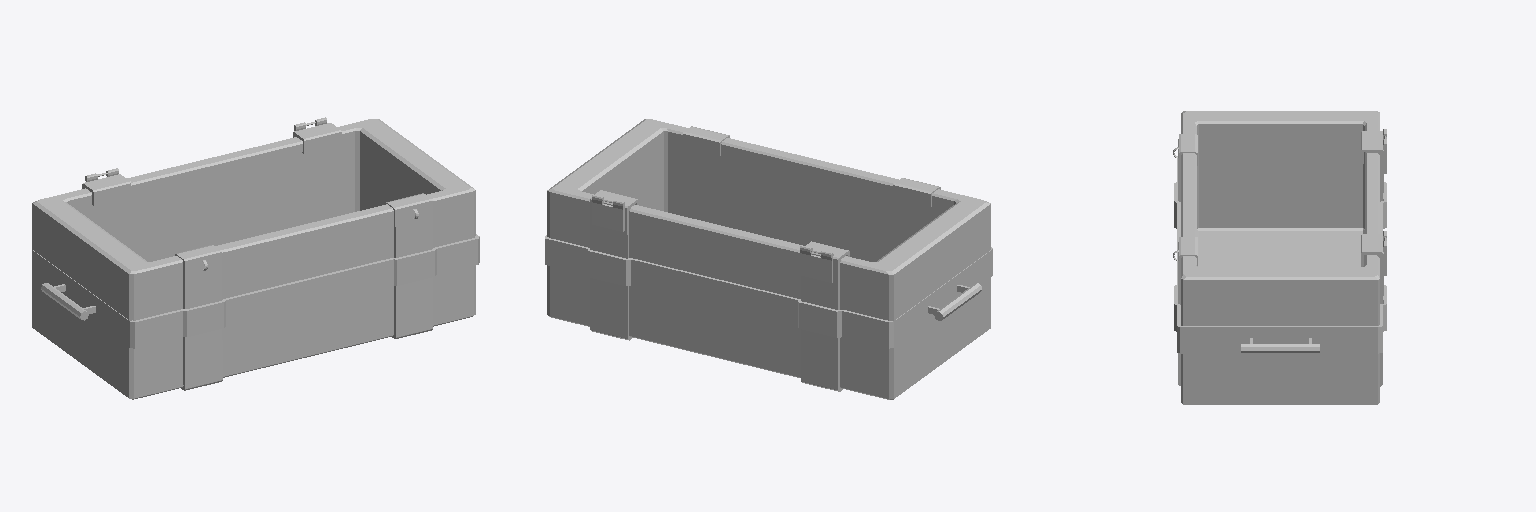
Rendered from bau.obj.
3 renders of one model, left to right at view 1: azimuth 30°, elevation 25°; view 2: azimuth 150°, elevation 25°; view 3: azimuth 270°, elevation 25°, orthographic.
Parts seen in each view (by area): view 1: Plane.001_Plane.010; view 2: Plane.001_Plane.010; view 3: Plane.001_Plane.010.
Part boxes in pixels (x1,y1,x2,y2): Plane.001_Plane.010: (32, 117, 479, 399); Plane.001_Plane.010: (545, 119, 992, 399); Plane.001_Plane.010: (1173, 111, 1386, 404).
Bounding box in the file's own units: 1.14 × 0.3877 × 0.5402.